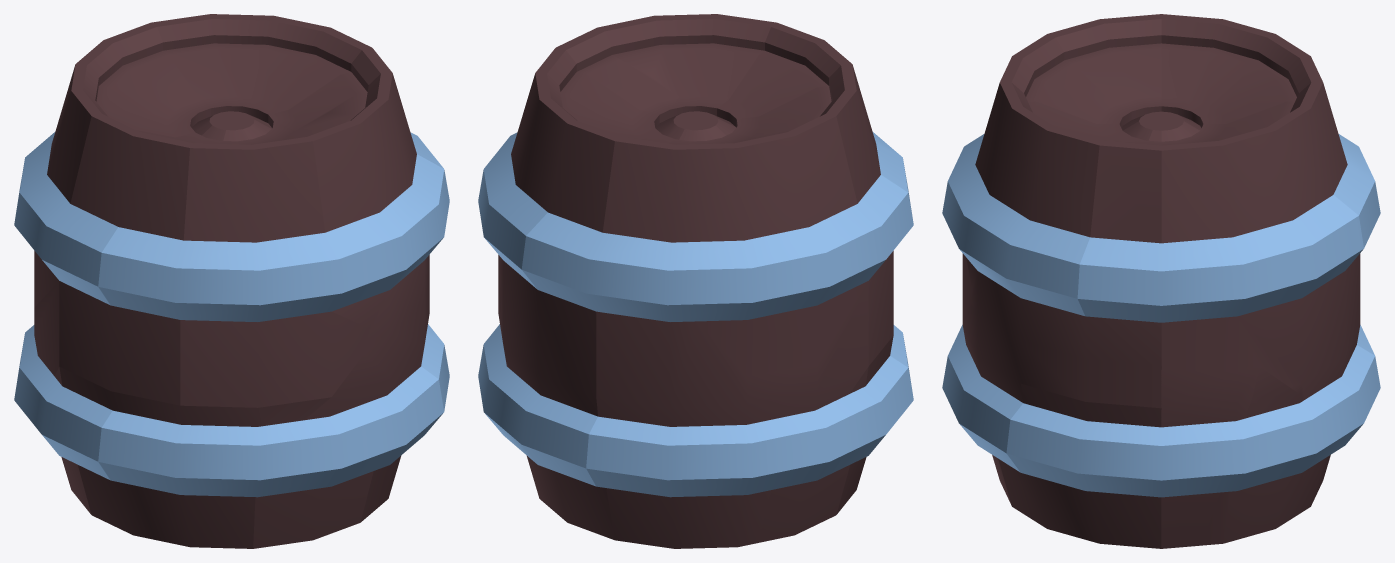
Rendered from barrel_broken.fbx.
3 renders of one model, left to right at view 1: azimuth 30°, elevation 25°; view 2: azimuth 150°, elevation 25°; view 3: azimuth 270°, elevation 25°, orthographic.
Visible parts, largest first — view 1: brokenBarrel.016, brokenBarrel.014, brokenBarrel.011, brokenBarrel.017, brokenBarrel.007, brokenBarrel.006, brokenBarrel.019, brokenBarrel.021, brokenBarrel.013, brokenBarrel.022, brokenBarrel.018, brokenBarrel.012 (+7 smaller); view 2: brokenBarrel.013, brokenBarrel.003, brokenBarrel.018, brokenBarrel.012, brokenBarrel.002, brokenBarrel.007, brokenBarrel, brokenBarrel.017, brokenBarrel.010, brokenBarrel.004, brokenBarrel.016, brokenBarrel.015 (+7 smaller); view 3: brokenBarrel.010, brokenBarrel.007, brokenBarrel.015, brokenBarrel, brokenBarrel.002, brokenBarrel.014, brokenBarrel.009, brokenBarrel.019, brokenBarrel.022, brokenBarrel.017, brokenBarrel.008, brokenBarrel.020 (+6 smaller).
Boxes of the visible parts, bbox=[...] form: brokenBarrel.016: bbox=[180, 121, 368, 407]; brokenBarrel.014: bbox=[98, 154, 449, 321]; brokenBarrel.011: bbox=[98, 366, 443, 497]; brokenBarrel.017: bbox=[59, 113, 231, 405]; brokenBarrel.007: bbox=[232, 64, 429, 340]; brokenBarrel.006: bbox=[59, 366, 330, 548]; brokenBarrel.019: bbox=[253, 271, 429, 548]; brokenBarrel.021: bbox=[163, 43, 350, 122]; brokenBarrel.013: bbox=[14, 132, 117, 304]; brokenBarrel.022: bbox=[96, 51, 231, 137]; brokenBarrel.018: bbox=[47, 22, 162, 203]; brokenBarrel.012: bbox=[14, 325, 112, 479]; brokenBarrel.013: bbox=[521, 175, 913, 321]; brokenBarrel.003: bbox=[596, 281, 868, 548]; brokenBarrel.018: bbox=[602, 113, 857, 242]; brokenBarrel.012: bbox=[586, 356, 913, 497]; brokenBarrel.002: bbox=[498, 255, 614, 540]; brokenBarrel.007: bbox=[576, 14, 776, 120]; brokenBarrel: bbox=[511, 48, 620, 232]; brokenBarrel.017: bbox=[696, 64, 893, 365]; brokenBarrel.010: bbox=[478, 324, 597, 486]; brokenBarrel.004: bbox=[697, 281, 868, 376]; brokenBarrel.016: bbox=[696, 22, 852, 127]; brokenBarrel.015: bbox=[478, 132, 547, 288]; brokenBarrel.010: bbox=[1006, 345, 1380, 497]; brokenBarrel.007: bbox=[966, 82, 1161, 365]; brokenBarrel.015: bbox=[1077, 195, 1363, 322]; brokenBarrel: bbox=[1161, 82, 1347, 243]; brokenBarrel.002: bbox=[1161, 253, 1360, 519]; brokenBarrel.014: bbox=[942, 134, 1089, 315]; brokenBarrel.009: bbox=[998, 384, 1161, 548]; brokenBarrel.019: bbox=[962, 301, 1161, 505]; brokenBarrel.022: bbox=[1161, 43, 1296, 130]; brokenBarrel.017: bbox=[1047, 14, 1161, 120]; brokenBarrel.008: bbox=[1161, 366, 1259, 548]; brokenBarrel.020: bbox=[1090, 130, 1161, 243].
Size of the model in its own units: 1.04 by 1.04 by 1.04.
